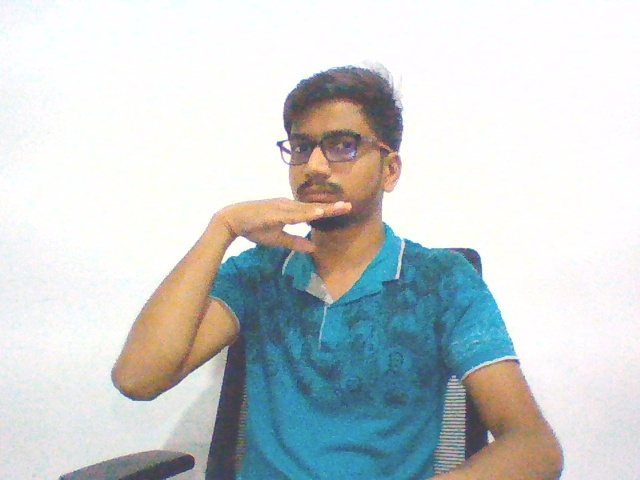elephant: (205, 186, 363, 258)
